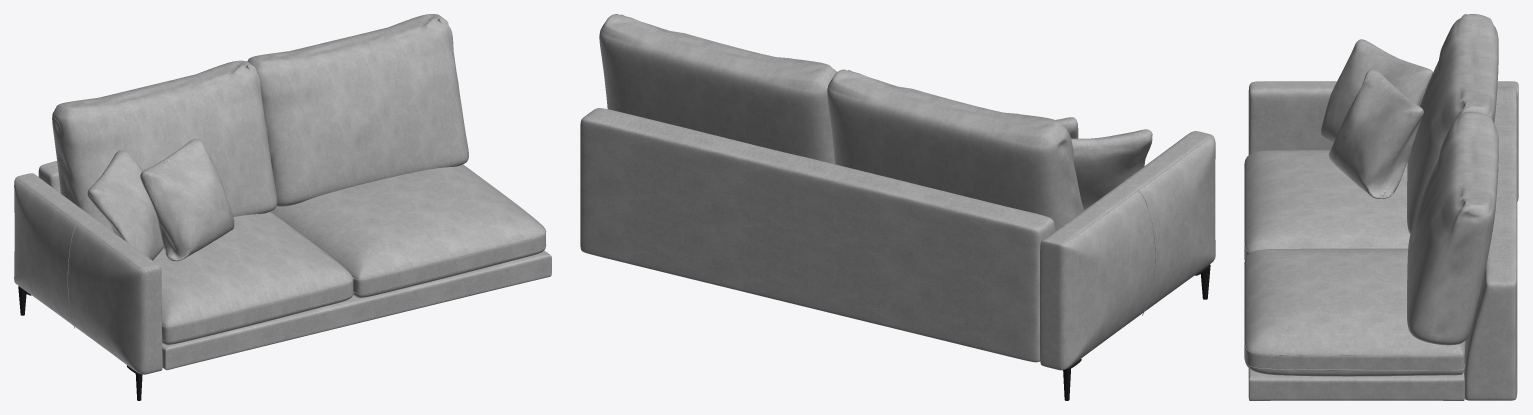
Rendered from arm2seats.glb.
The picture shows the model from 3 angles, left to right: view 1: azimuth 30°, elevation 25°; view 2: azimuth 150°, elevation 25°; view 3: azimuth 270°, elevation 25°; orthographic projection. The views are drawn at different scales.
Parts seen in each view (by area): view 1: almofada costa 2 (×2), Almofada de assento#8, braço, Almofada de assento#7, estrutura, ALMOFADA DECO#1, ALMOFADA DECO#2; view 2: Costa Kaori (×2), almofada costa 2 (×2), braço, ALMOFADA DECO#2; view 3: almofada costa 2 (×2), Almofada de assento#8, Almofada de assento#7, Costa Kaori (×2), ALMOFADA DECO#1, braço, estrutura, ALMOFADA DECO#2.
Part boxes in pixels (x1=…): almofada costa 2 (×2): x1=52, y1=14, x2=468, y2=232; Almofada de assento#8: x1=271, y1=164, x2=546, y2=297; braço: x1=14, y1=173, x2=162, y2=374; Almofada de assento#7: x1=153, y1=211, x2=353, y2=344; estrutura: x1=162, y1=250, x2=551, y2=370; ALMOFADA DECO#1: x1=140, y1=139, x2=234, y2=261; ALMOFADA DECO#2: x1=87, y1=150, x2=163, y2=260; Costa Kaori (×2): x1=580, y1=108, x2=1055, y2=362; almofada costa 2 (×2): x1=599, y1=14, x2=1083, y2=230; braço: x1=1040, y1=131, x2=1215, y2=370; ALMOFADA DECO#2: x1=1071, y1=129, x2=1152, y2=210; almofada costa 2 (×2): x1=1407, y1=14, x2=1498, y2=345; Almofada de assento#8: x1=1244, y1=248, x2=1465, y2=376; Almofada de assento#7: x1=1244, y1=150, x2=1410, y2=259; Costa Kaori (×2): x1=1464, y1=86, x2=1517, y2=400; ALMOFADA DECO#1: x1=1328, y1=69, x2=1423, y2=198; braço: x1=1248, y1=81, x2=1518, y2=201; estrutura: x1=1248, y1=368, x2=1464, y2=400; ALMOFADA DECO#2: x1=1321, y1=39, x2=1432, y2=143.
Size of the model in its own units: 1.9 by 0.9174 by 1.02.
2 materials, 1 textured.
